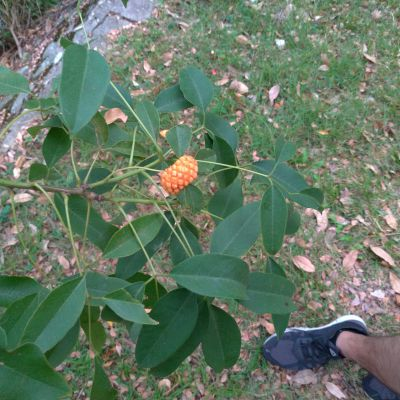eggs: (158, 152, 201, 195)
